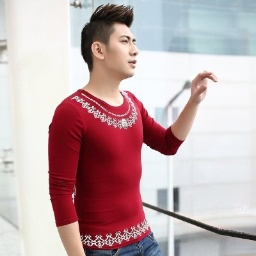face: (80, 3, 139, 80)
